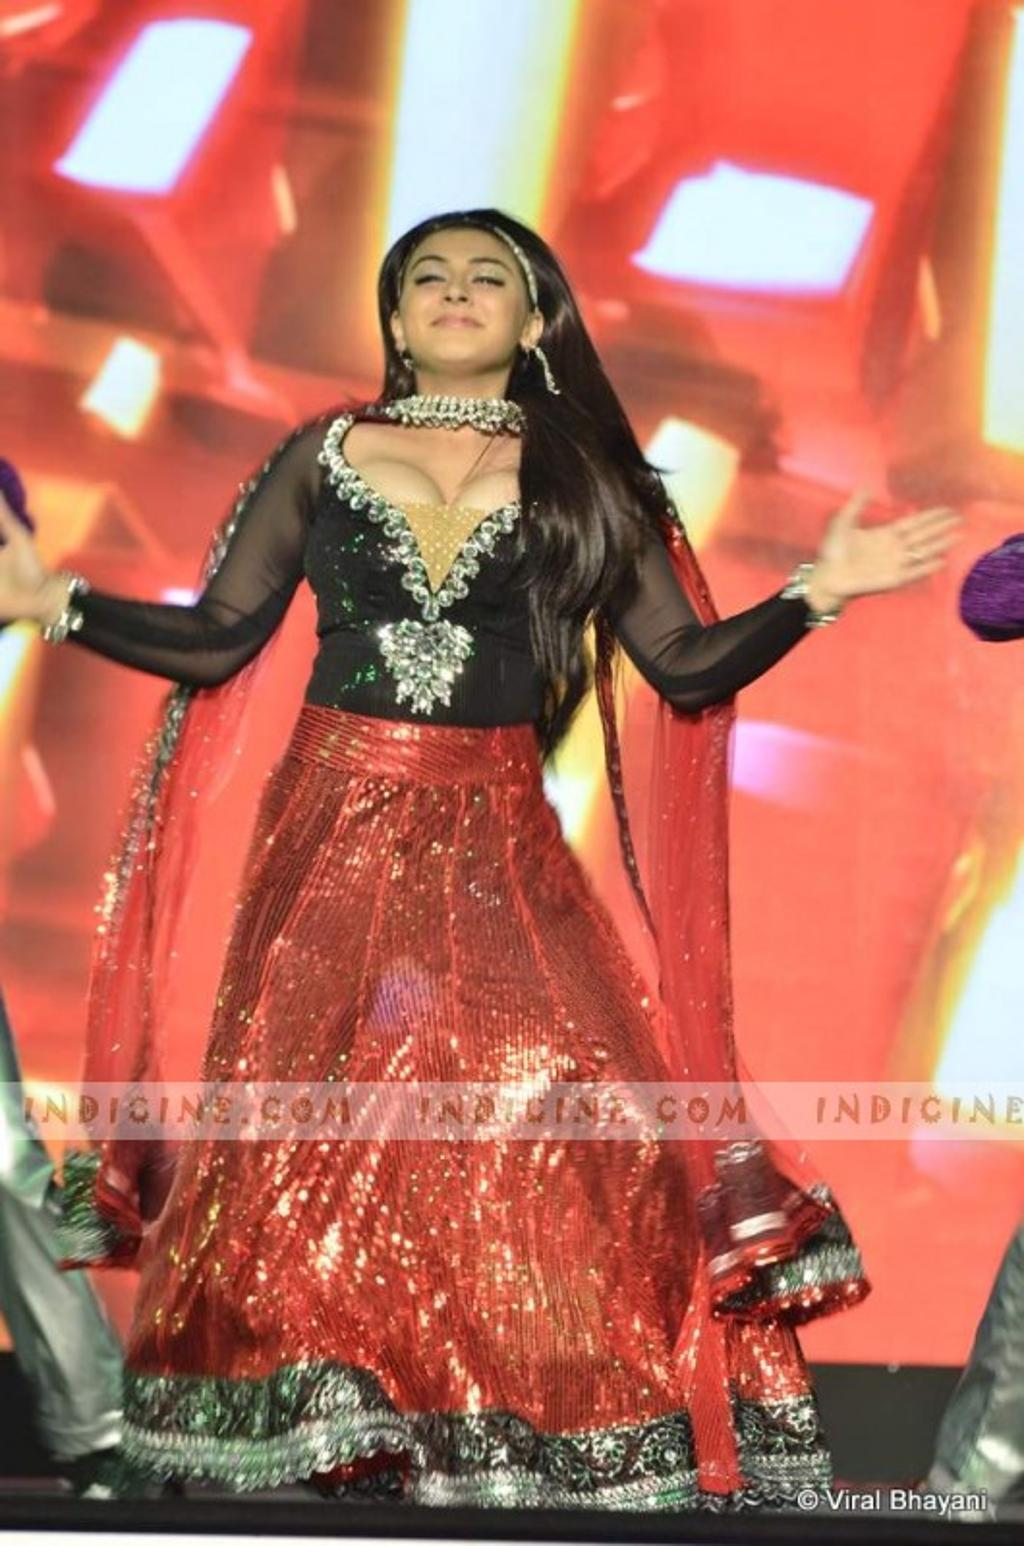face: (399, 221, 526, 360)
